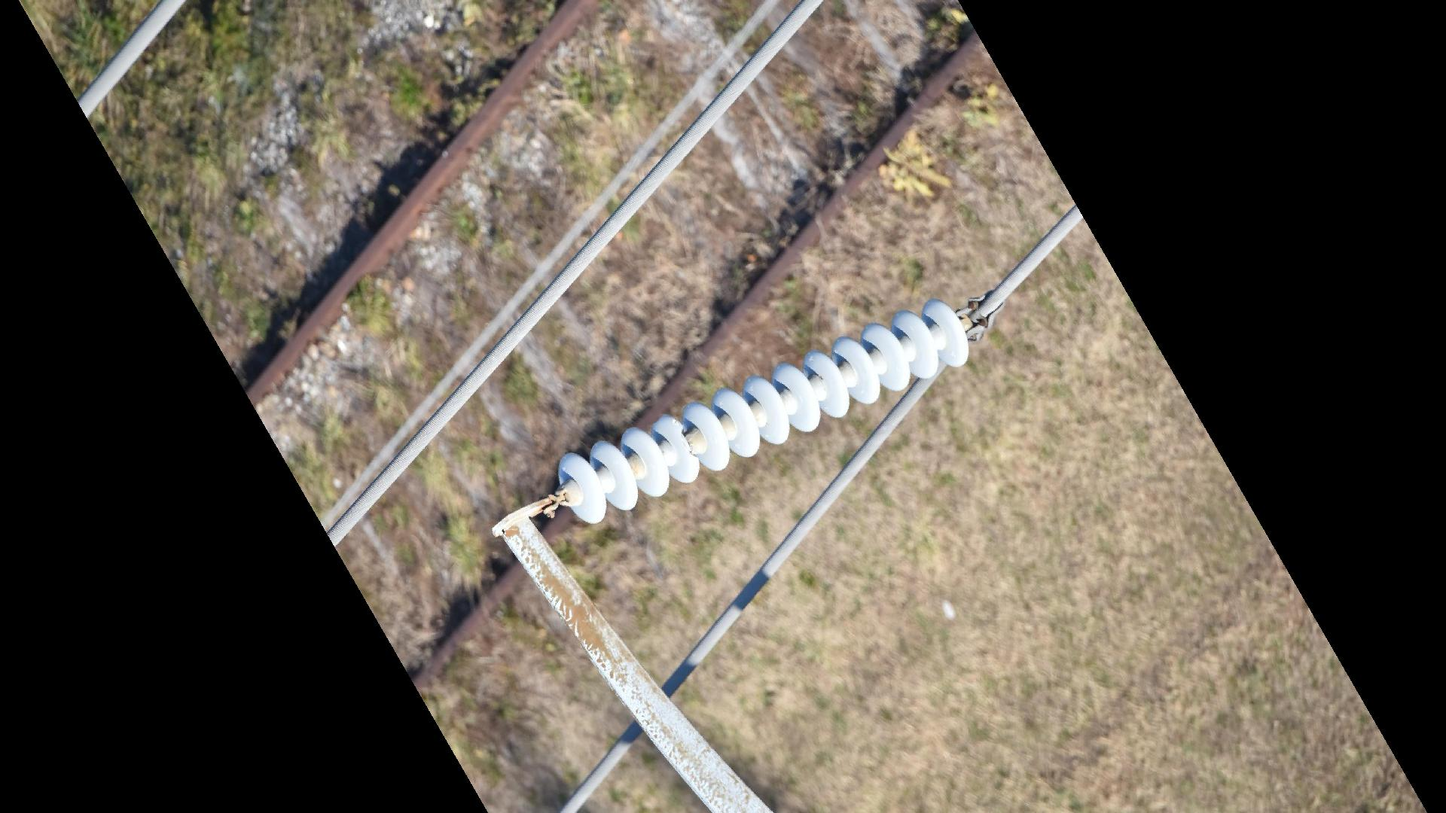insulator: (553, 292, 975, 531)
insulator_breakage: (667, 414, 704, 467)
